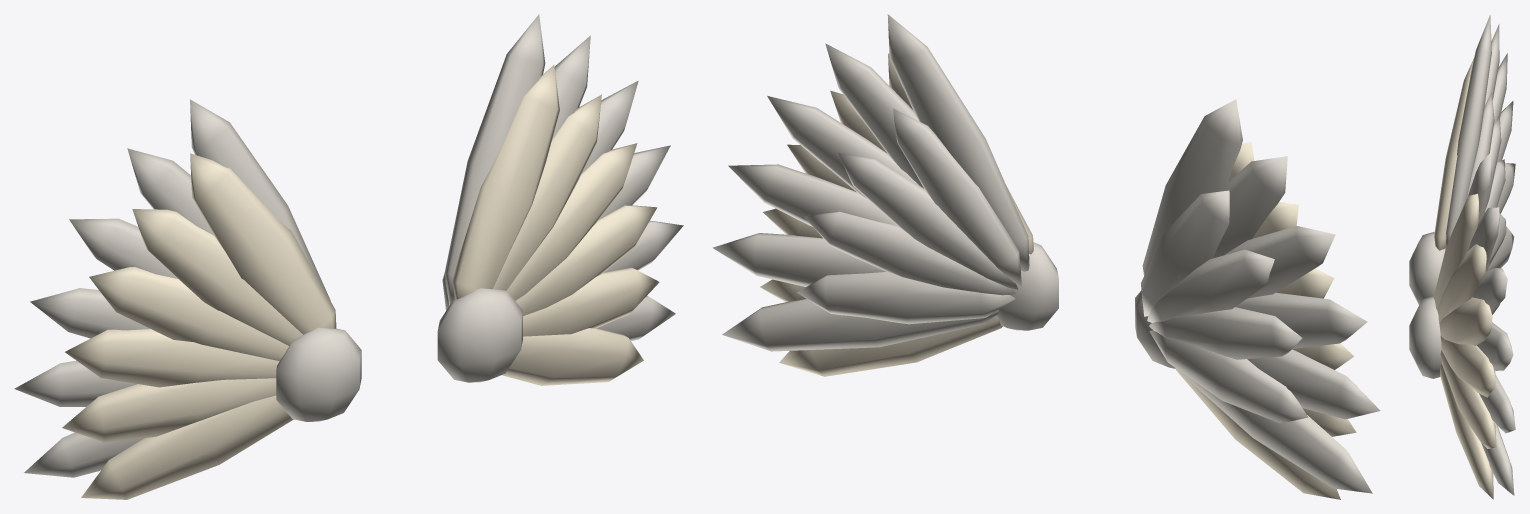
File: back_wings.glb
3 views of the same model, side by side, from view 1: azimuth 30°, elevation 25°; view 2: azimuth 150°, elevation 25°; view 3: azimuth 270°, elevation 25° (orthographic). The views are drawn at different scales.
Visible parts, largest first — view 1: BackWings; view 2: BackWings; view 3: BackWings.
Part boxes in pixels (box(x1,y1,x2,y2)): BackWings: box(14, 14, 683, 499); BackWings: box(712, 14, 1380, 499); BackWings: box(1409, 15, 1515, 499).
Bounding box in the file's own units: 0.7465 × 0.4069 × 0.1263.
